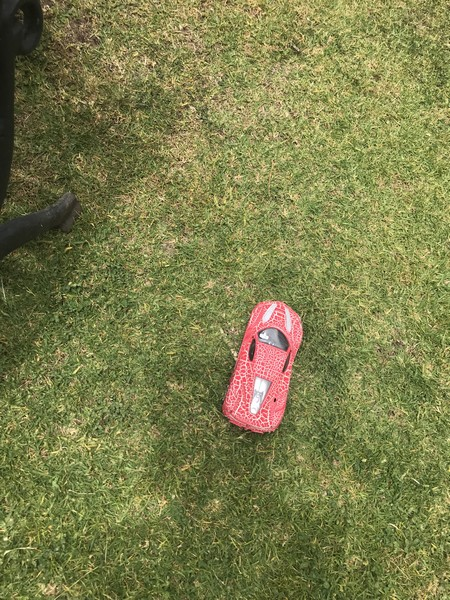RC: (220, 297, 305, 432)
